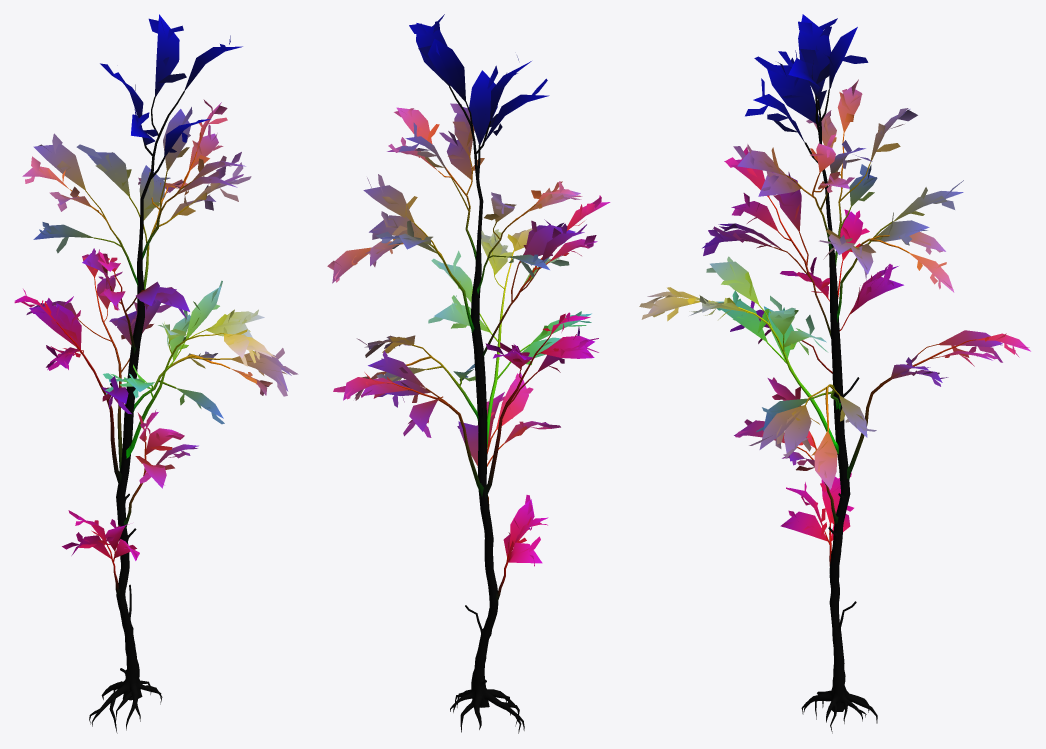
The model's file is SM_EuropeanBeech_Dead_M_01.fbx.
The picture shows the model from 3 angles, left to right: view 1: azimuth 30°, elevation 25°; view 2: azimuth 150°, elevation 25°; view 3: azimuth 270°, elevation 25°; orthographic projection. The views are drawn at different scales.
Visible parts, largest first — view 1: SM_EuropeanBeech_Dead_M_01_LOD0; view 2: SM_EuropeanBeech_Dead_M_01_LOD0; view 3: SM_EuropeanBeech_Dead_M_01_LOD0.
Part boxes in pixels (x1,y1,x2,y2): SM_EuropeanBeech_Dead_M_01_LOD0: [14, 14, 298, 733]; SM_EuropeanBeech_Dead_M_01_LOD0: [327, 14, 610, 733]; SM_EuropeanBeech_Dead_M_01_LOD0: [639, 14, 1030, 733].
Size of the model in its own units: 268 by 339 by 691.
